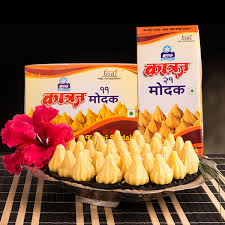modak: (55, 139, 194, 180)
